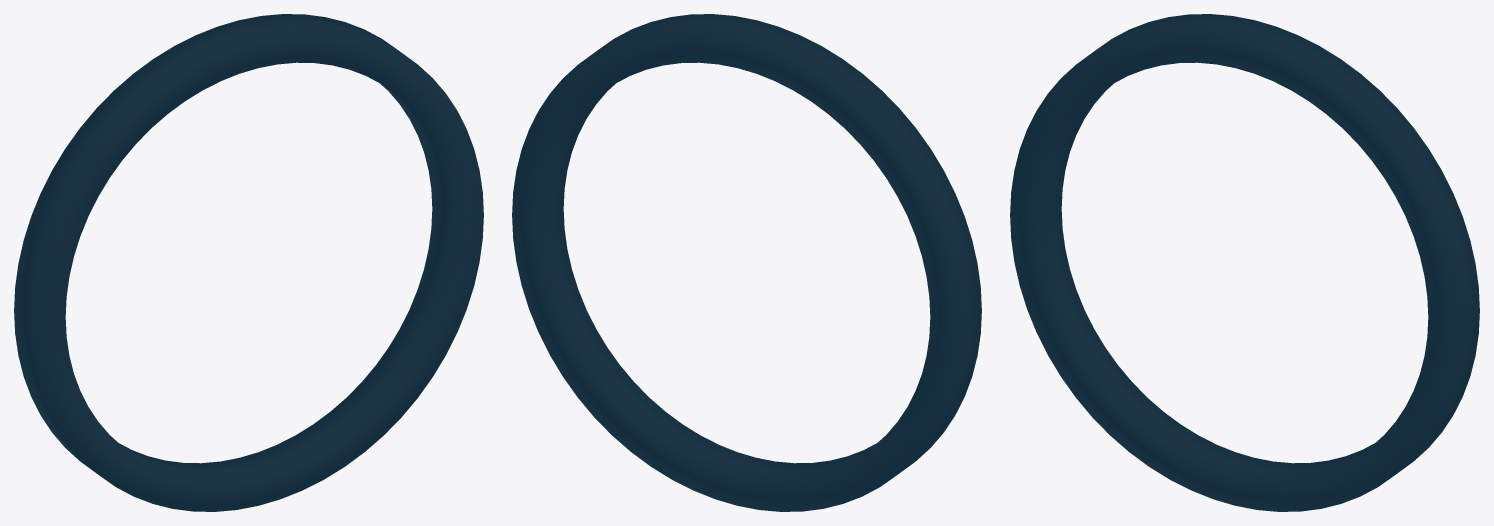
Rendered from simple3.gltf.
3 views of the same model, side by side, from view 1: azimuth 30°, elevation 25°; view 2: azimuth 150°, elevation 25°; view 3: azimuth 330°, elevation 25° (orthographic).
Visible parts, largest first — view 1: Circle.010; view 2: Circle.010; view 3: Circle.010.
Part boxes in pixels (box(x1,y1,x2,y2)): Circle.010: box(14, 14, 483, 511); Circle.010: box(512, 14, 981, 511); Circle.010: box(1010, 14, 1479, 511).
Size of the model in its own units: 2 by 2 by 0.15.
